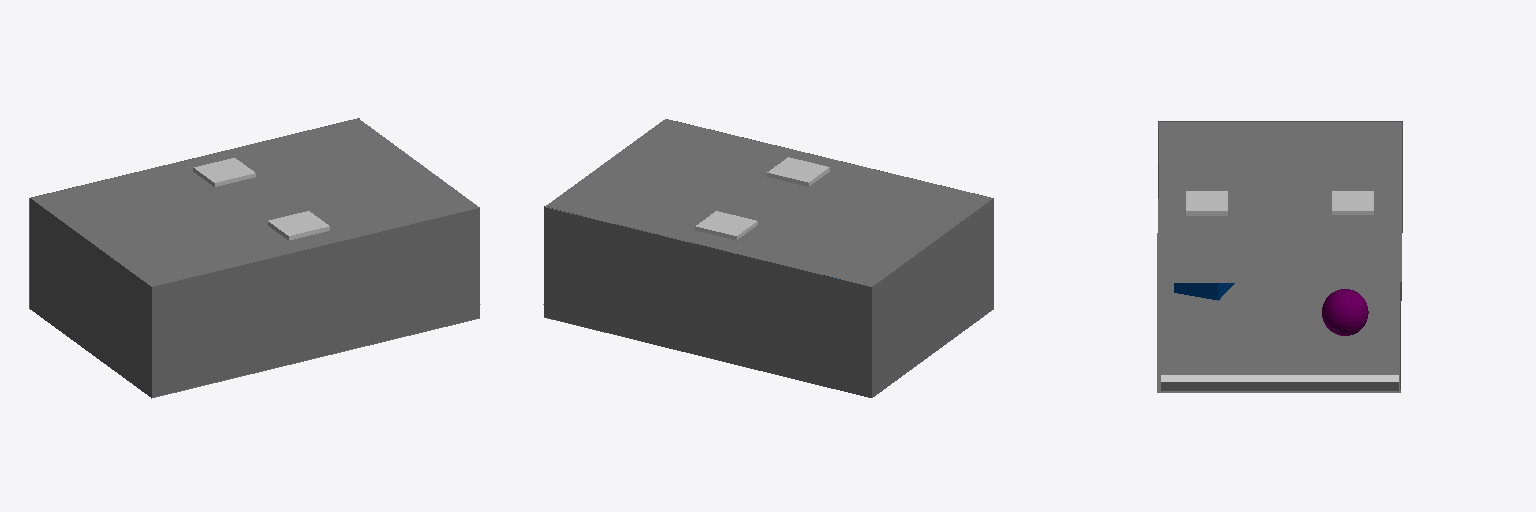
Rendered from cornell.obj.
3 renders of one model, left to right at view 1: azimuth 30°, elevation 25°; view 2: azimuth 150°, elevation 25°; view 3: azimuth 270°, elevation 25°, orthographic.
Parts seen in each view (by area): view 1: Plane, lamp.001, lamp; view 2: Plane, lamp.001, lamp; view 3: Plane, lamp.002, Sphere, lamp.001, lamp, Cube.001_Cube.002.
Part boxes in pixels (x1,y1,x2,y2): Plane: (29, 118, 479, 398); lamp.001: (268, 211, 329, 240); lamp: (193, 158, 255, 186); Plane: (544, 119, 993, 397); lamp.001: (767, 157, 829, 186); lamp: (695, 211, 757, 240); Plane: (1157, 121, 1402, 392); lamp.002: (1161, 375, 1398, 390); Sphere: (1322, 289, 1368, 335); lamp.001: (1186, 191, 1227, 215); lamp: (1332, 191, 1373, 214); Cube.001_Cube.002: (1174, 283, 1234, 300).
Bounding box in the file's own units: 15.99 × 5.34 × 10.27.